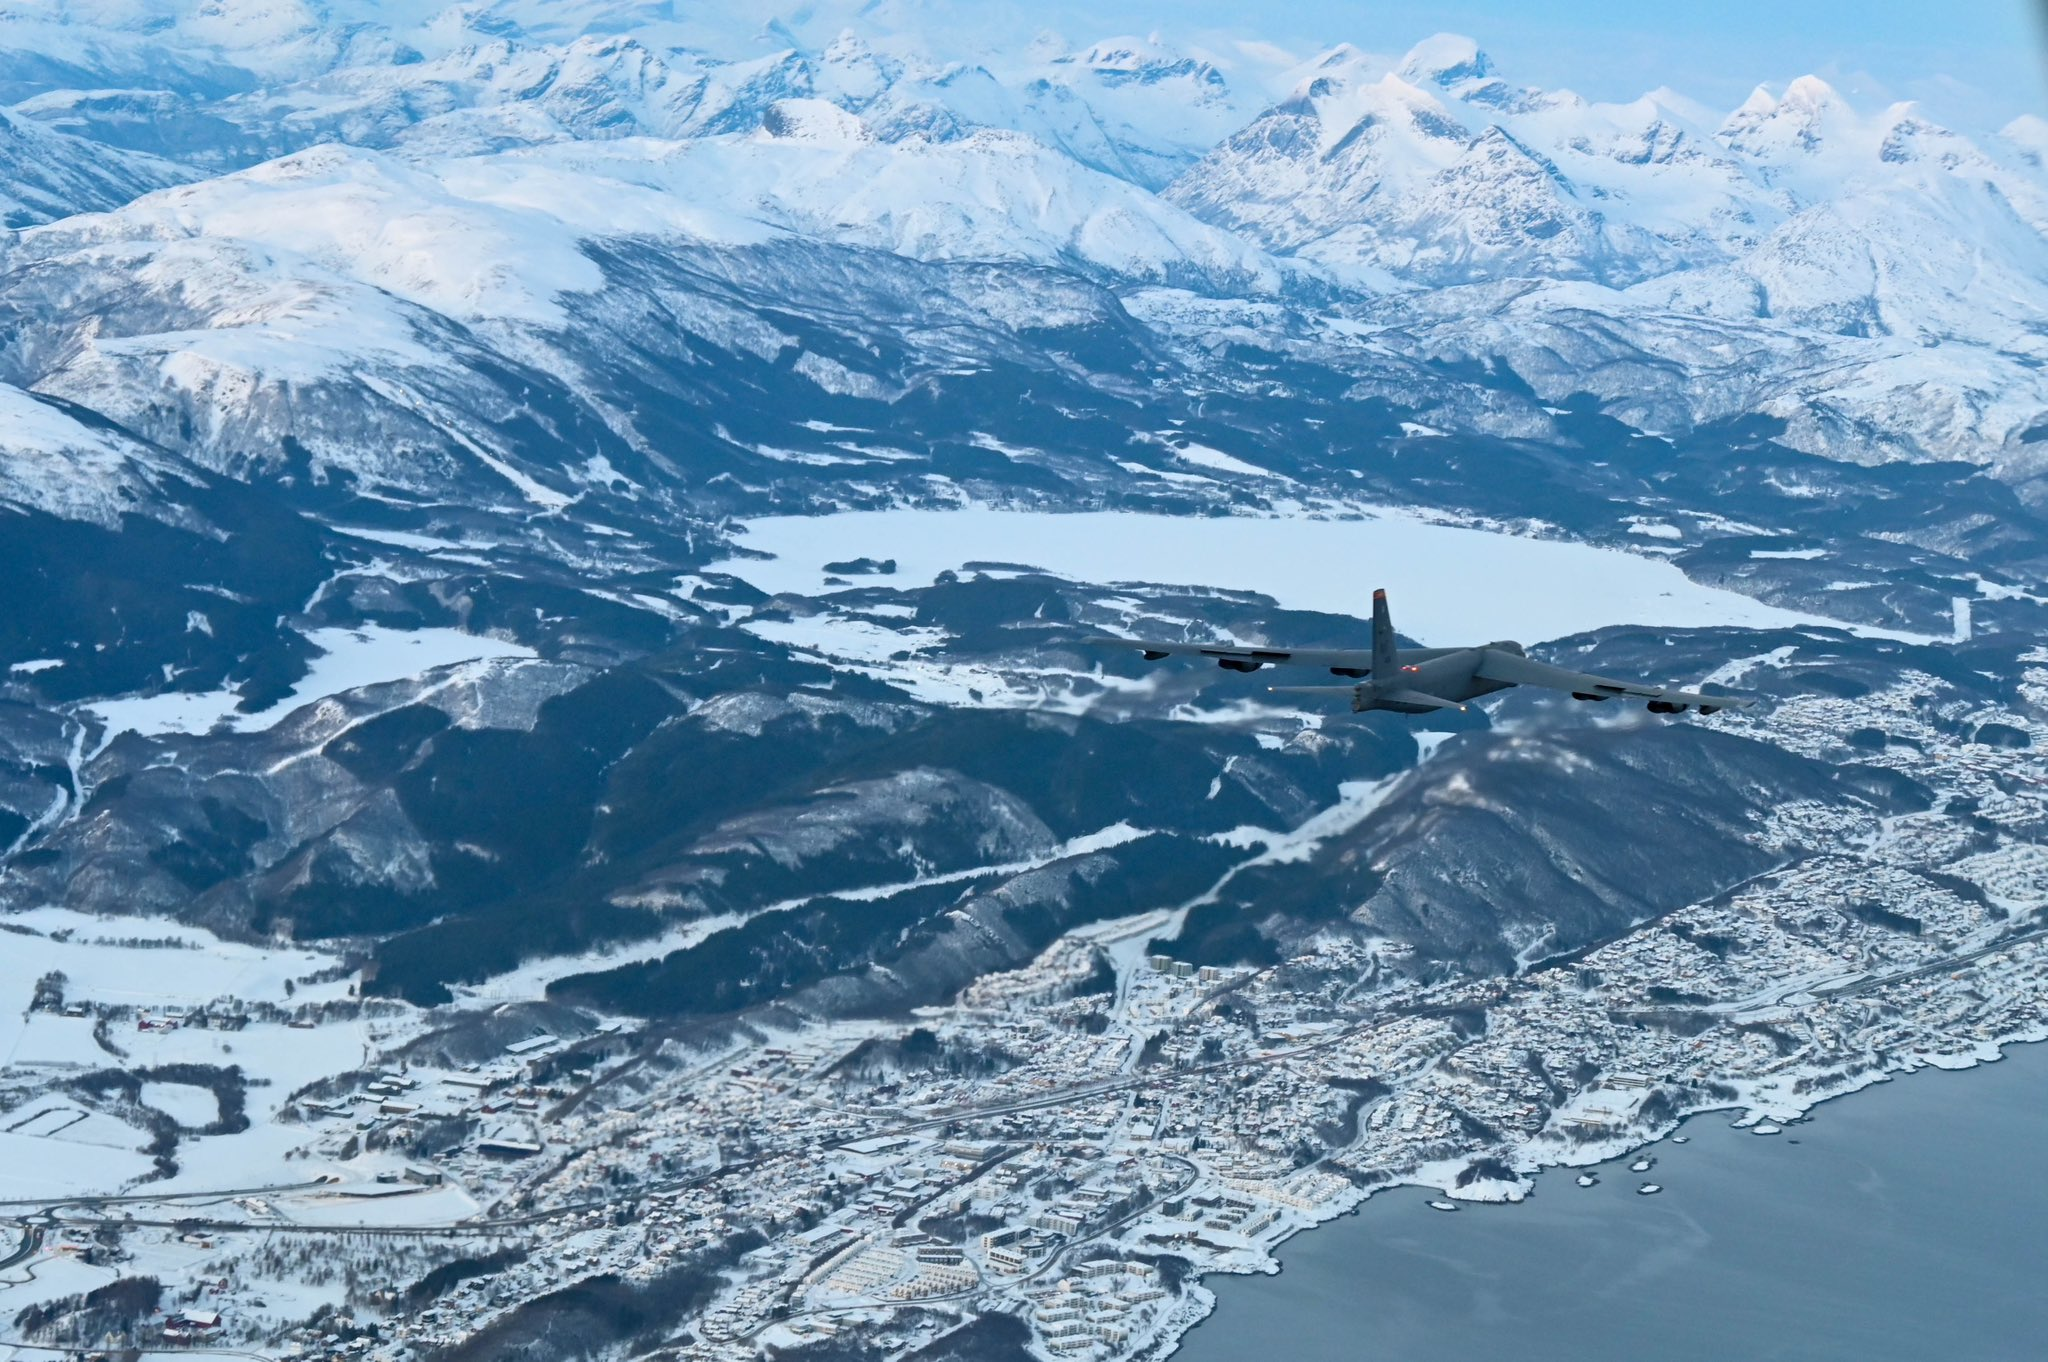B52: (1077, 588, 1756, 721)
